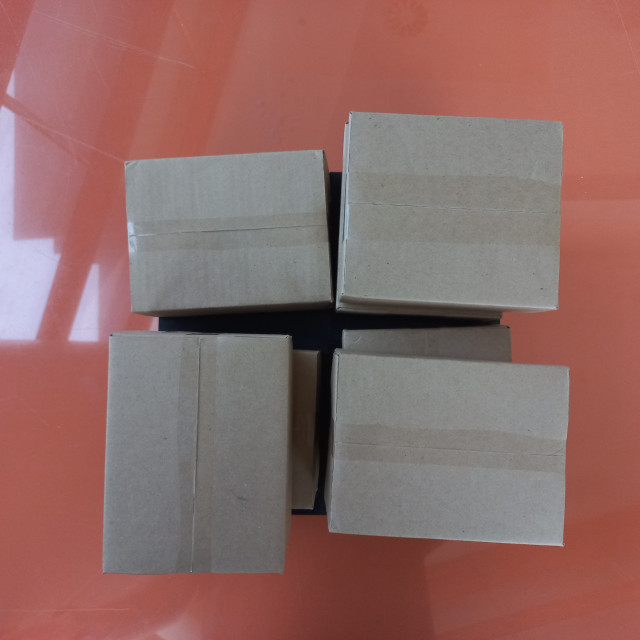box: (99, 326, 297, 592), (332, 106, 567, 316), (327, 349, 572, 545), (121, 145, 337, 321), (131, 90, 316, 291), (135, 325, 310, 531), (340, 64, 484, 312), (310, 322, 470, 494)
